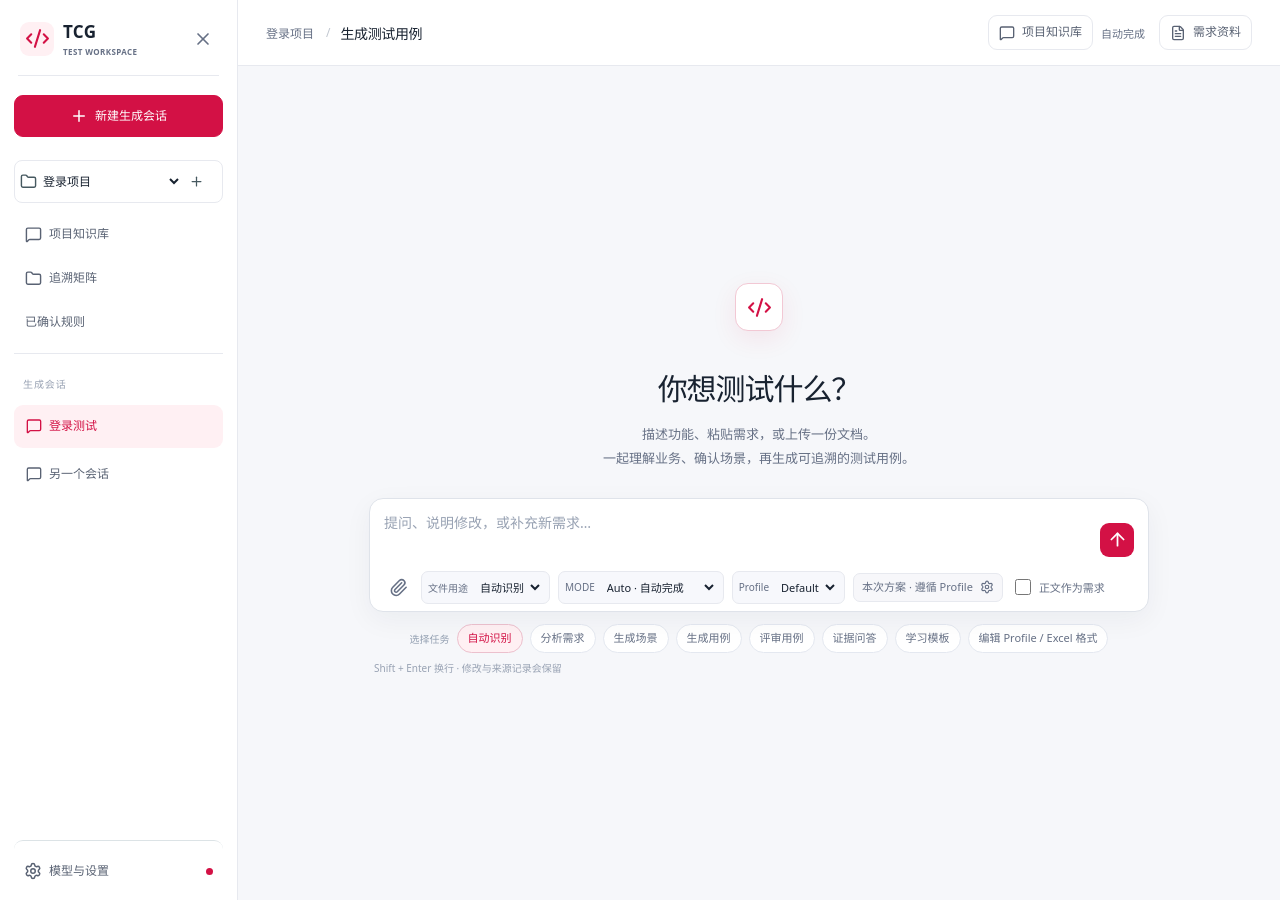
a lost HTTP response stays in its original conversation and later saved messages replace its local receipt
Type "保留这份原始要求" into the text box named "聊天输入" at (737, 535), box [384,511,1090,559]
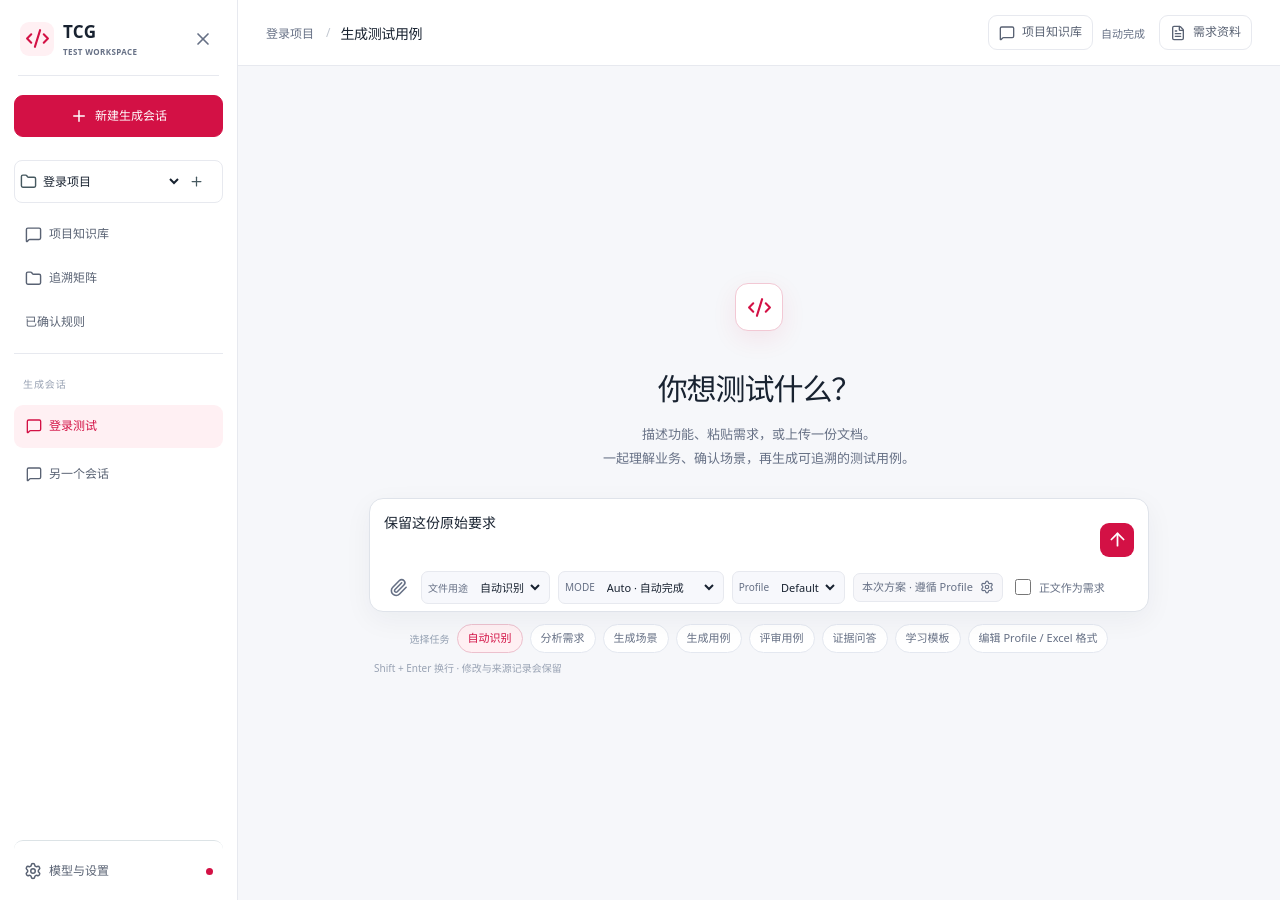
Click the button named "发送消息" at (1117, 540), box [1100,523,1134,557]
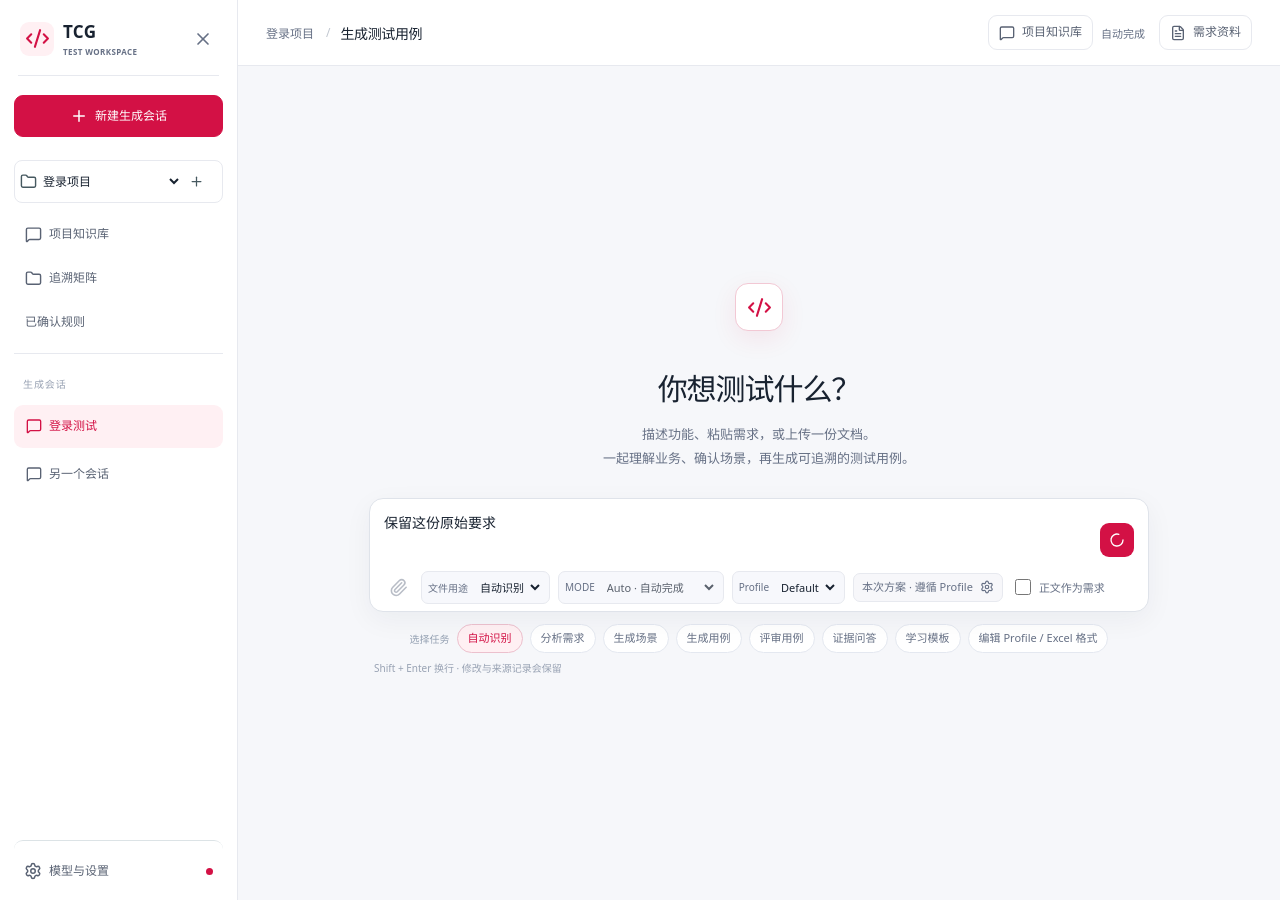
Click the button "另一个会话" at (118, 474), box [14,453,223,496]
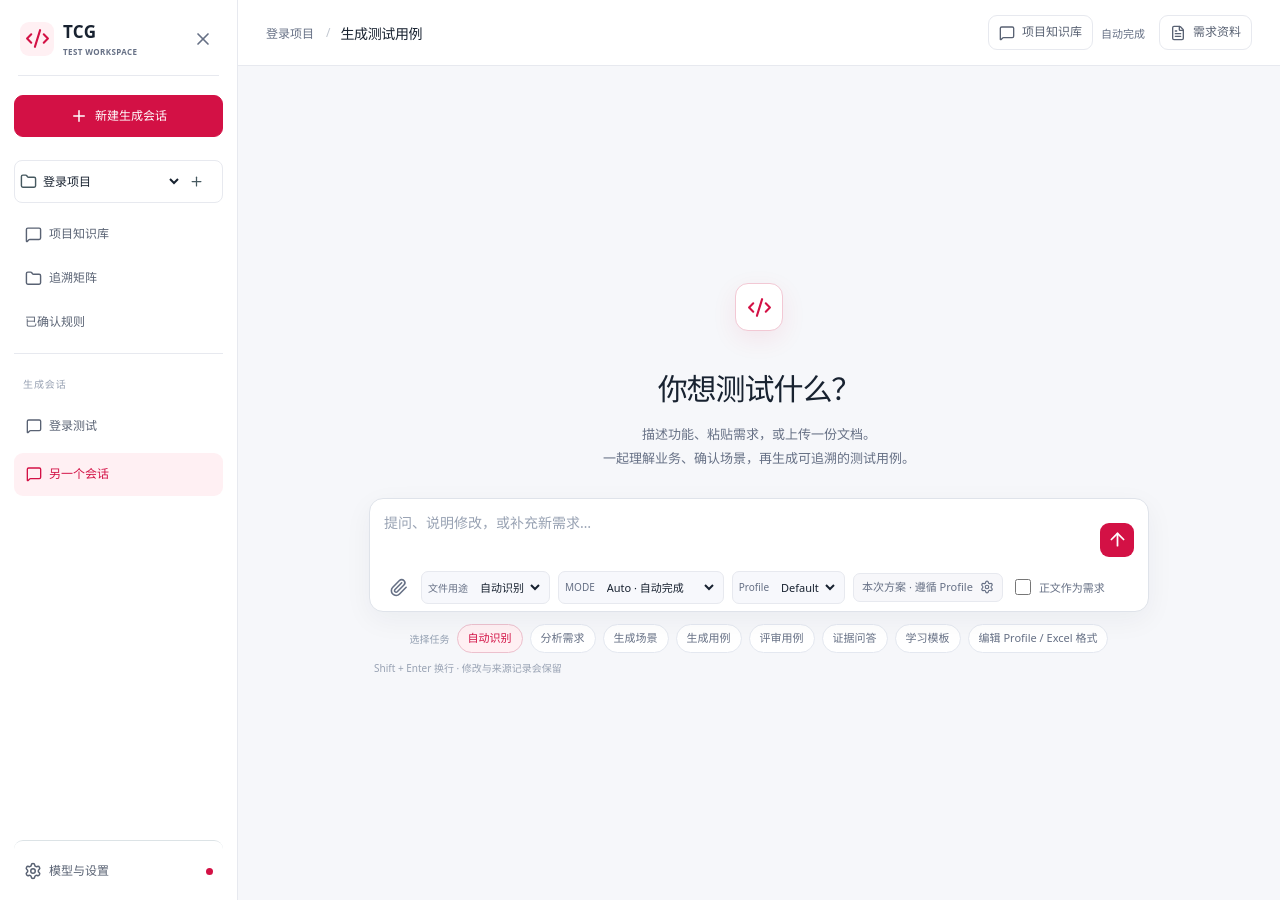
Expected: the text "连接中断" is not shown
Click the button "登录测试" at (118, 426), box [14,405,223,448]
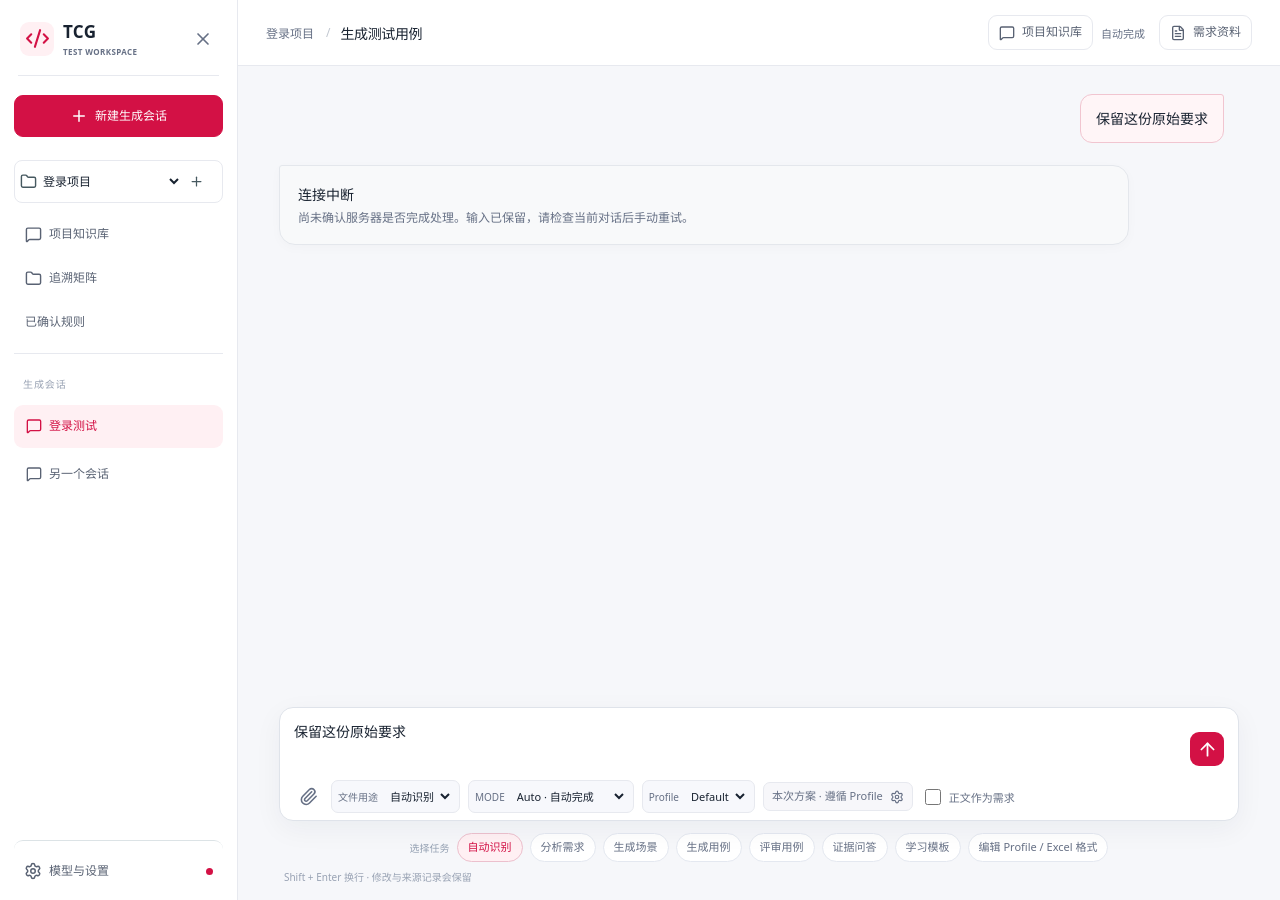
Expected: the text "连接中断" is shown, [298,185,354,204]
Expected: the text "保留这份原始要求" is shown, [1080,94,1224,143]
Expected: the text "尚未确认服务器是否完成处理。输入已保留，请检查当前对话后手动重试。" is shown, [298,209,694,226]
Click the button "另一个会话" at (118, 474), box [14,453,223,496]
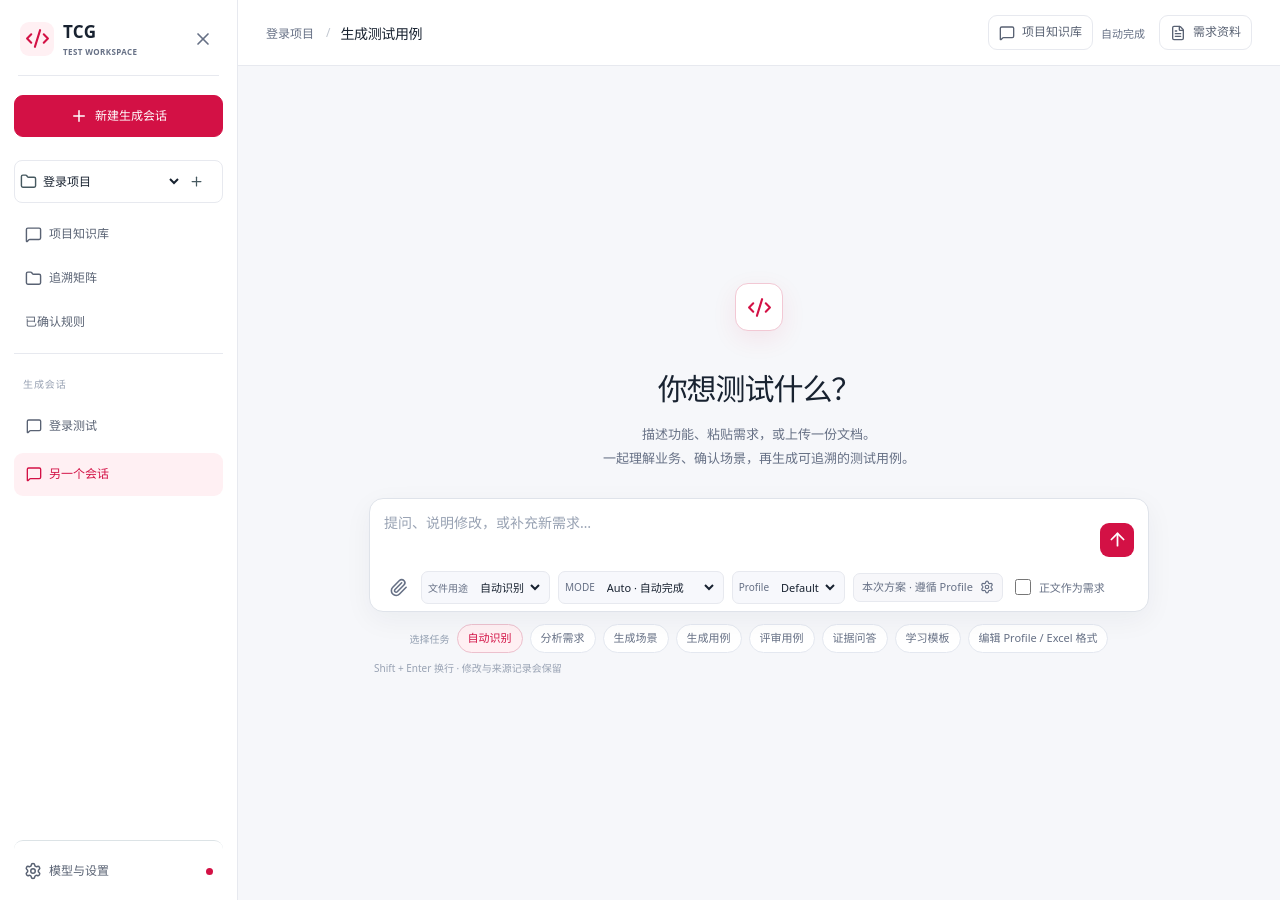
Click the button "登录测试" at (118, 426), box [14,405,223,448]
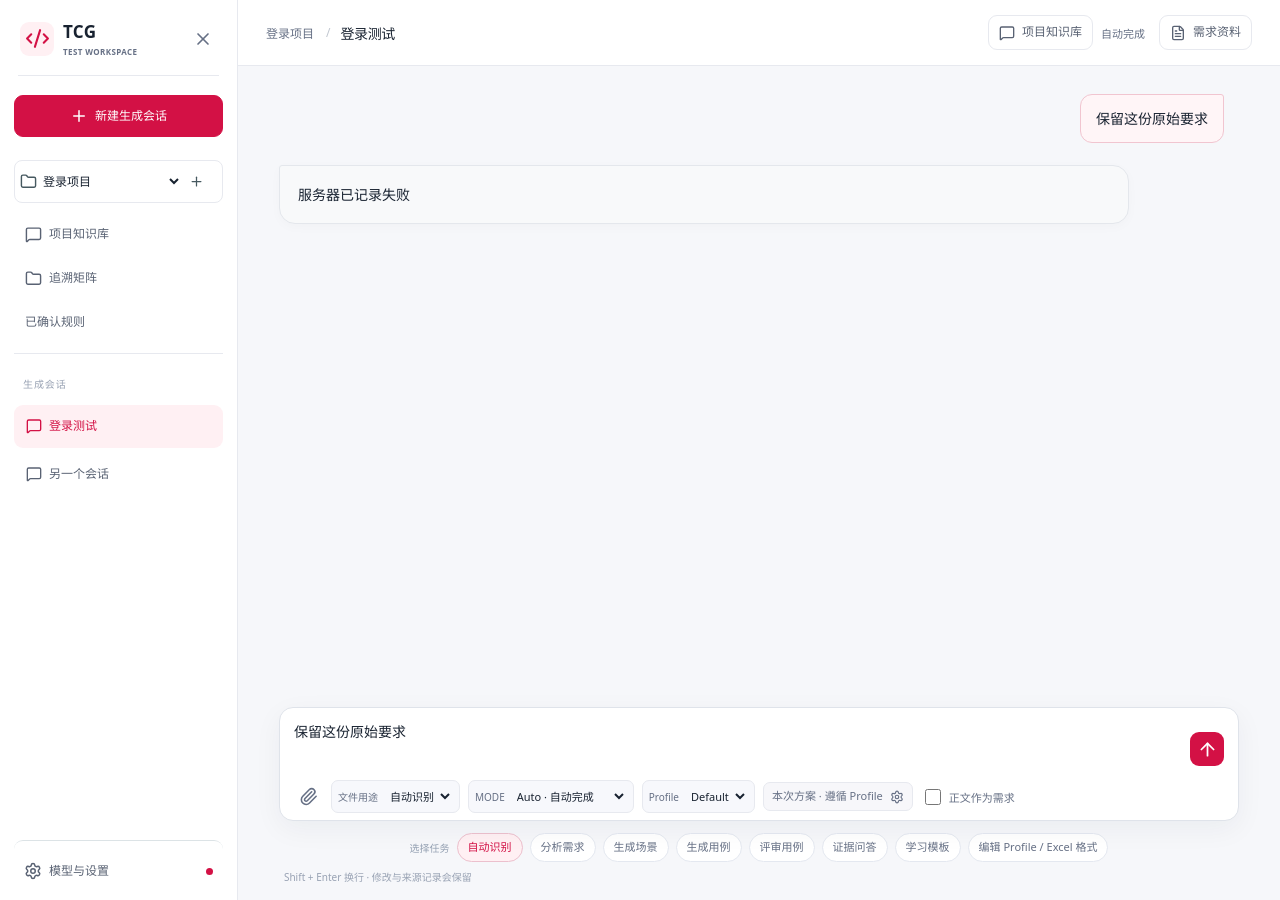
Expected: the text "连接中断" is not shown
Expected: the text "服务器已记录失败" is shown, [298,185,410,204]
